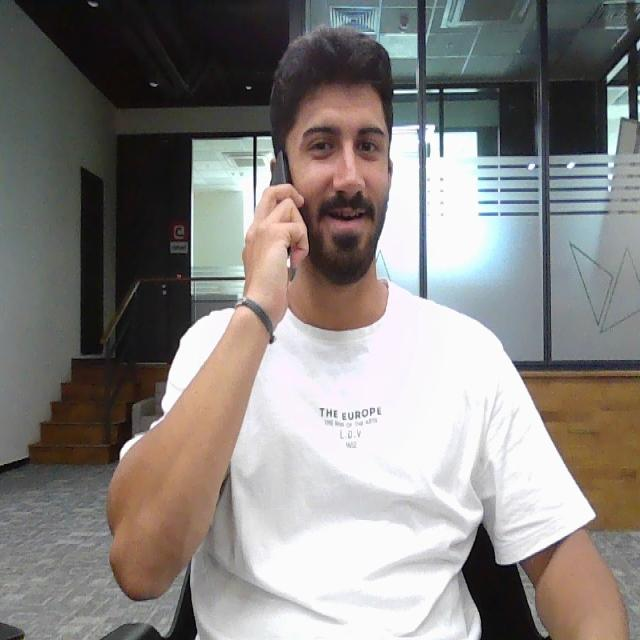phone: (265, 148, 286, 186)
